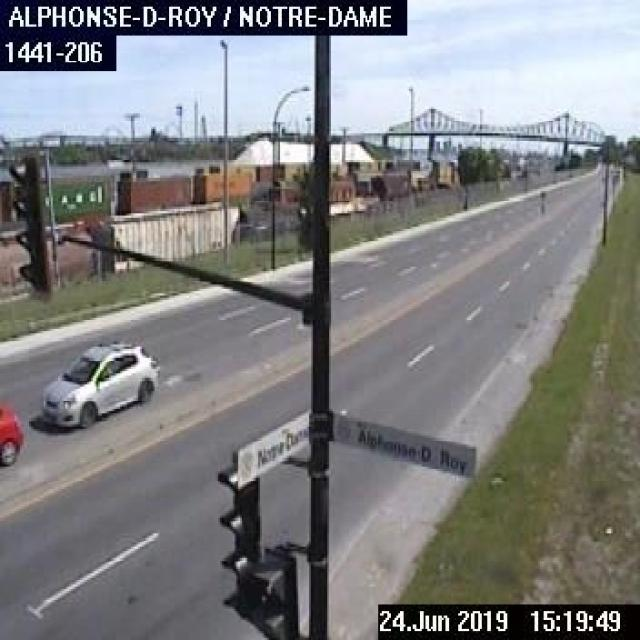vehicle: (38, 340, 160, 429), (0, 393, 24, 467)
